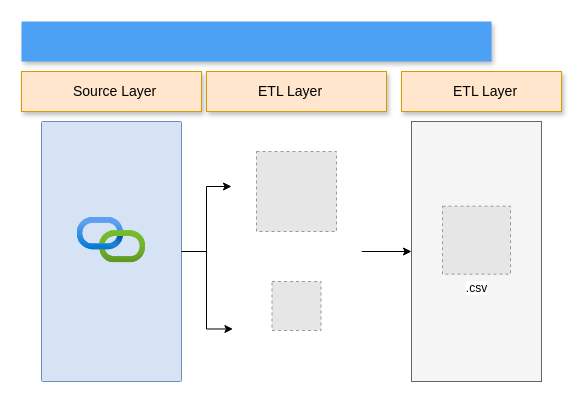
This 585x399 diagram has some shape labels left out. Grey dashed boxes stand in for pictures. The shapes that lost their labels are listed below. From the top down, each one's centre as x and y in pixels, then its label:
(257,42): Верхнеуровневая архитектура
(111,239): api kaggle
